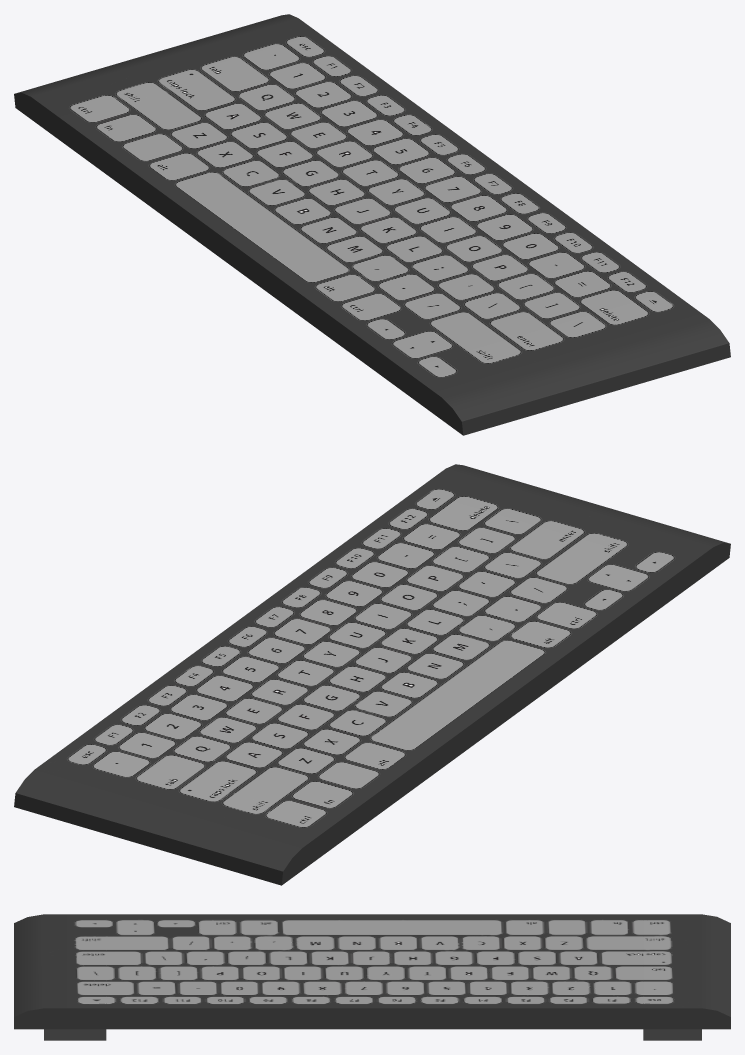
File: Keyboard.fbx
3 views of the same model, one above another, from view 1: azimuth 30°, elevation 25°; view 2: azimuth 150°, elevation 25°; view 3: azimuth 270°, elevation 25° (orthographic). The views are drawn at different scales.
Visible parts, largest first — view 1: KeyboardOBJ; view 2: KeyboardOBJ; view 3: KeyboardOBJ.
Part boxes in pixels (box(x1,y1,x2,y2)): KeyboardOBJ: box(14, 14, 730, 435); KeyboardOBJ: box(14, 464, 730, 885); KeyboardOBJ: box(14, 914, 730, 1040).
Bounding box in the file's own units: 15.55 × 2.26 × 44.65.
Materials: 1 (1 with a texture image).
